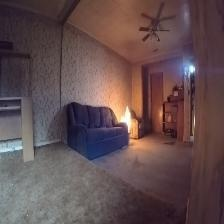fire: (119, 103, 135, 133)
